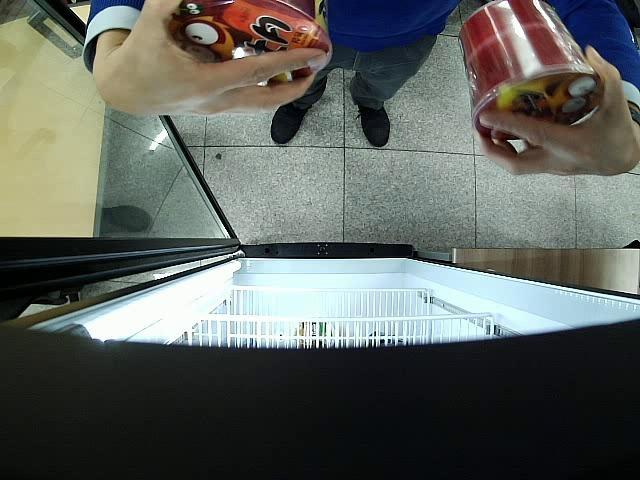05_nuguri_L: (458, 0, 603, 140), (172, 0, 334, 86)
